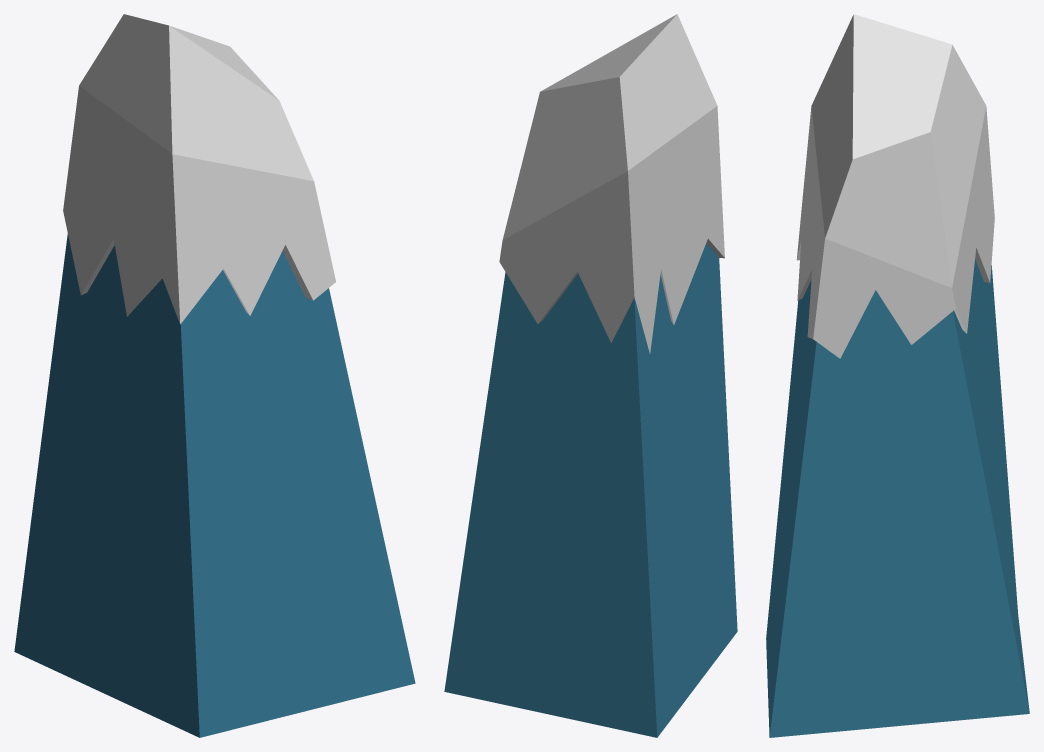
The model's file is kardagi.fbx.
The picture shows the model from 3 angles, left to right: view 1: azimuth 30°, elevation 25°; view 2: azimuth 150°, elevation 25°; view 3: azimuth 270°, elevation 25°; orthographic projection. The views are drawn at different scales.
Parts seen in each view (by area): view 1: Cube; view 2: Cube; view 3: Cube.
Part boxes in pixels (bbox=[...]): Cube: bbox=[14, 14, 415, 737]; Cube: bbox=[444, 14, 737, 737]; Cube: bbox=[766, 14, 1029, 737].
Bounding box in the file's own units: 383 × 919 × 348.
